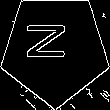N_E: (31, 29, 79, 69)
